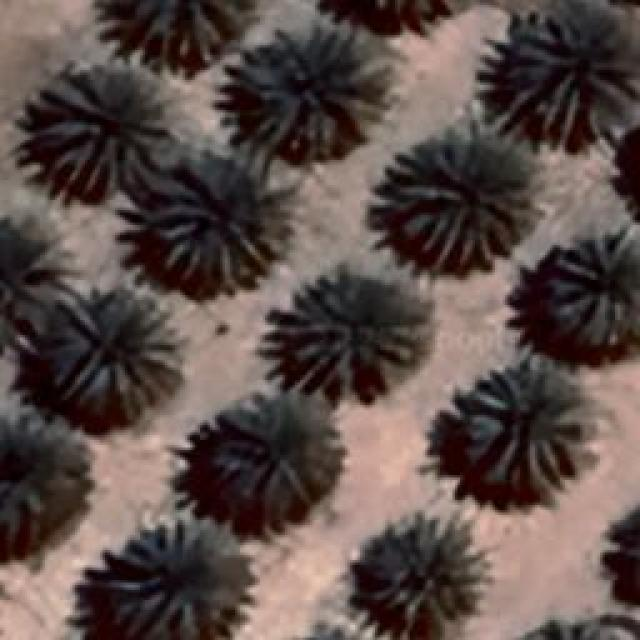PalmTree: (270, 260, 430, 400), (375, 132, 535, 272), (230, 20, 392, 155), (142, 145, 288, 293), (500, 8, 635, 142), (30, 67, 170, 195), (350, 507, 488, 635), (58, 287, 188, 415), (454, 364, 580, 496), (105, 520, 238, 638), (200, 390, 332, 505), (90, 0, 268, 74), (544, 228, 638, 348), (0, 208, 72, 340), (0, 436, 72, 548), (301, 0, 480, 38), (607, 496, 640, 610), (520, 615, 606, 640), (294, 615, 380, 640)
